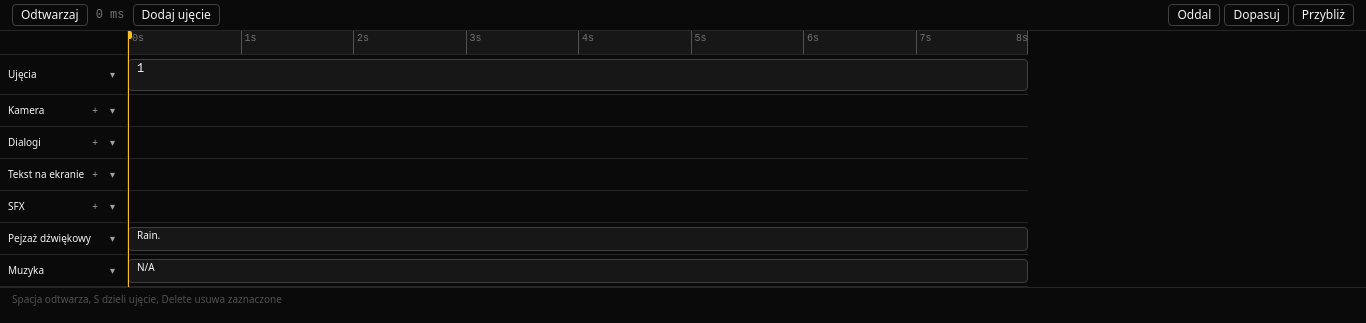
Test case: Timeline › przycisk odtwarzania zmienia etykietę na zatrzymanie
The image size is (1366, 323).
Click the button "Odtwarzaj" at (50, 15), box x1=12 y1=4 x2=88 y2=26
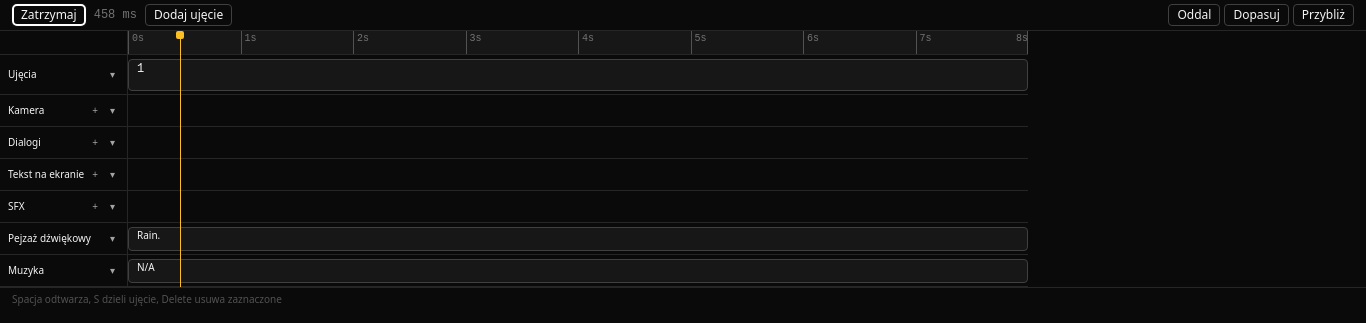
Expected: the button "Zatrzymaj" is shown, x1=12 y1=4 x2=86 y2=26
